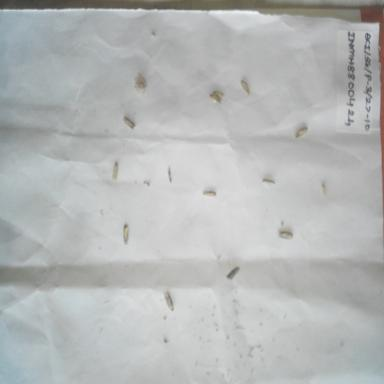pbw: (238, 76, 254, 100), (225, 264, 242, 286), (120, 114, 136, 135), (161, 290, 176, 312), (277, 228, 295, 246), (292, 124, 311, 141), (120, 222, 132, 246), (199, 186, 218, 200), (110, 160, 120, 183), (261, 176, 277, 189), (208, 91, 221, 107), (213, 88, 226, 103), (320, 182, 328, 200)
